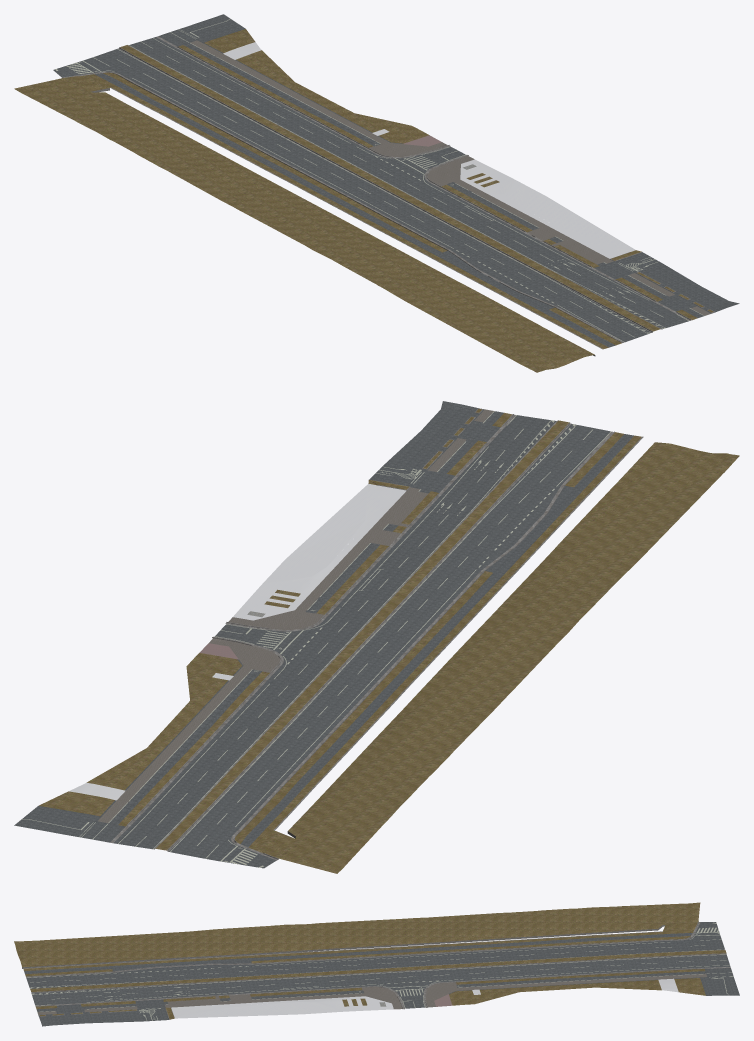
File: zimCreateArchive_Area04_Ground_v2.fbx
The picture shows the model from 3 angles, top to bottom: view 1: azimuth 30°, elevation 25°; view 2: azimuth 150°, elevation 25°; view 3: azimuth 270°, elevation 25°; orthographic projection. The views are drawn at different scales.
Parts seen in each view (by area): view 1: Ground-Grass1, Ground-Road, Ground-Path-DarkGrey, Ground-Kerb, Ground-Paving-White, Ground-Path-GreyTile2, Ground-RoadMark; view 2: Ground-Grass1, Ground-Road, Ground-Path-DarkGrey, Ground-Kerb, Ground-Paving-White, Ground-Path-GreyTile2, Ground-RoadMark; view 3: Ground-Grass1, Ground-Road, Ground-Path-DarkGrey, Ground-Kerb, Ground-Path-GreyTile2, Ground-Paving-White, Ground-RoadMark.
Part boxes in pixels (box(x1,y1,x2,y2)): Ground-Grass1: box(14, 29, 713, 372); Ground-Road: box(53, 37, 688, 342); Ground-Path-DarkGrey: box(95, 14, 739, 347); Ground-Kerb: box(62, 36, 714, 356); Ground-Paving-White: box(223, 42, 635, 258); Ground-Path-GreyTile2: box(190, 40, 710, 315); Ground-RoadMark: box(55, 19, 704, 342); Ground-Grass1: box(39, 409, 739, 873); Ground-Road: box(113, 415, 610, 868); Ground-Path-DarkGrey: box(14, 401, 633, 847); Ground-Kerb: box(110, 408, 643, 860); Ground-Paving-White: box(69, 483, 406, 800); Ground-Path-GreyTile2: box(98, 409, 493, 823); Ground-RoadMark: box(22, 411, 611, 867); Ground-Grass1: box(14, 902, 726, 1019); Ground-Road: box(26, 922, 730, 1008); Ground-Path-DarkGrey: box(24, 933, 739, 1026); Ground-Kerb: box(22, 921, 730, 1019); Ground-Path-GreyTile2: box(37, 973, 706, 1014); Ground-Paving-White: box(171, 978, 678, 1018); Ground-RoadMark: box(28, 922, 733, 1020).
Size of the model in its own units: 85.6 by 207 by 1.68.
Materials: 8 (8 with a texture image).
